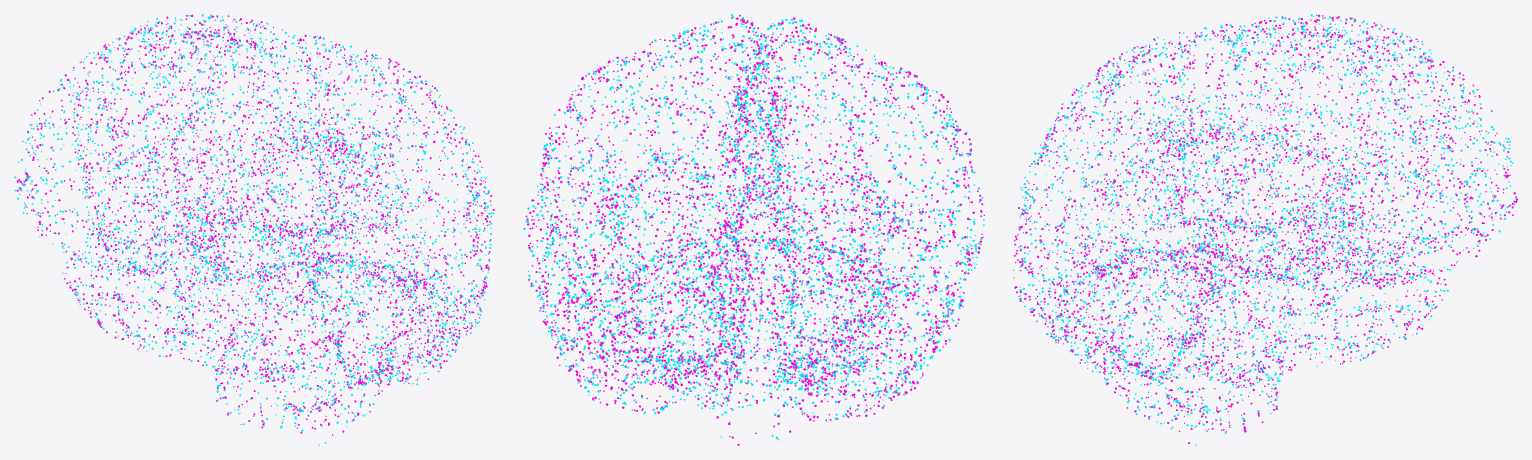
Rendered from brain_hologram.glb.
The picture shows the model from 3 angles, left to right: view 1: azimuth 30°, elevation 25°; view 2: azimuth 150°, elevation 25°; view 3: azimuth 270°, elevation 25°; orthographic projection. The views are drawn at different scales.
Visible parts, largest first — view 1: Icosphere.001; view 2: Icosphere.001; view 3: Icosphere.001.
Part boxes in pixels (<box>): Icosphere.001: <box>14,14,494,445</box>; Icosphere.001: <box>523,14,984,445</box>; Icosphere.001: <box>1013,14,1517,445</box>.
Bounding box in the file's own units: 1.09 × 1.1 × 1.3.
